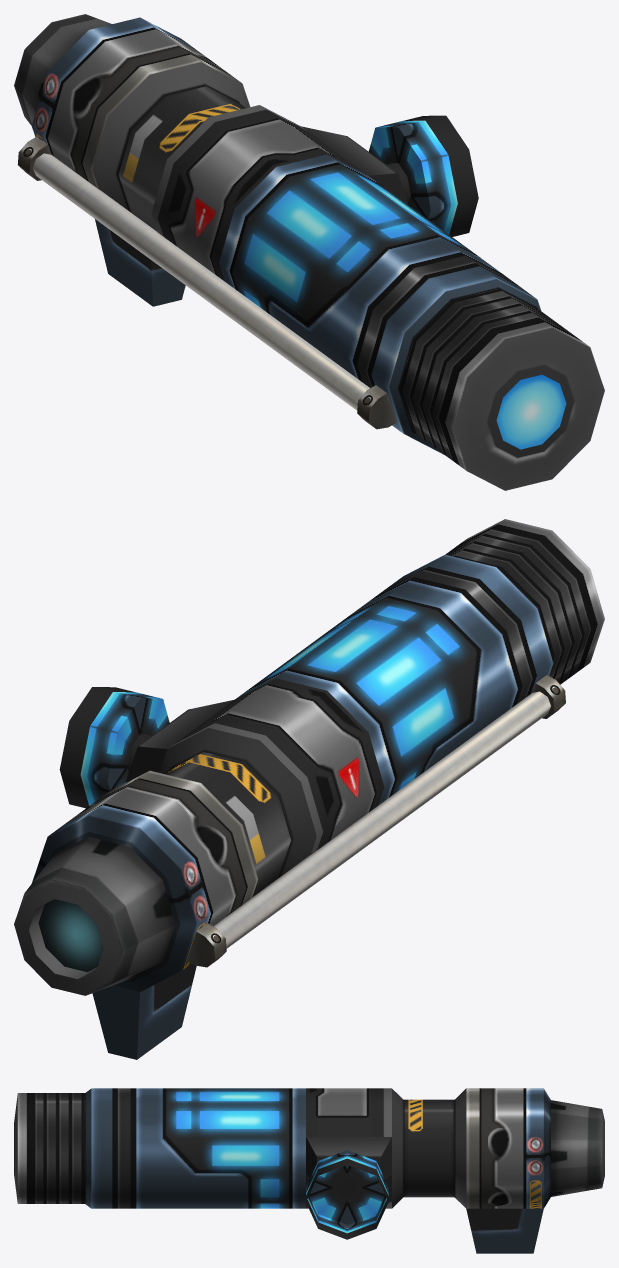
The model's file is drone04_gun_R.FBX.
The picture shows the model from 3 angles, top to bottom: view 1: azimuth 30°, elevation 25°; view 2: azimuth 150°, elevation 25°; view 3: azimuth 270°, elevation 25°; orthographic projection. The views are drawn at different scales.
Parts seen in each view (by area): view 1: drone04_gun_R; view 2: drone04_gun_R; view 3: drone04_gun_R.
Part boxes in pixels (left/top/right/bottom): drone04_gun_R: left=14, top=14, right=604, bottom=490; drone04_gun_R: left=14, top=519, right=604, bottom=1059; drone04_gun_R: left=14, top=1088, right=604, bottom=1253.
Size of the model in its own units: 0.4717 by 0.3938 by 1.38.
